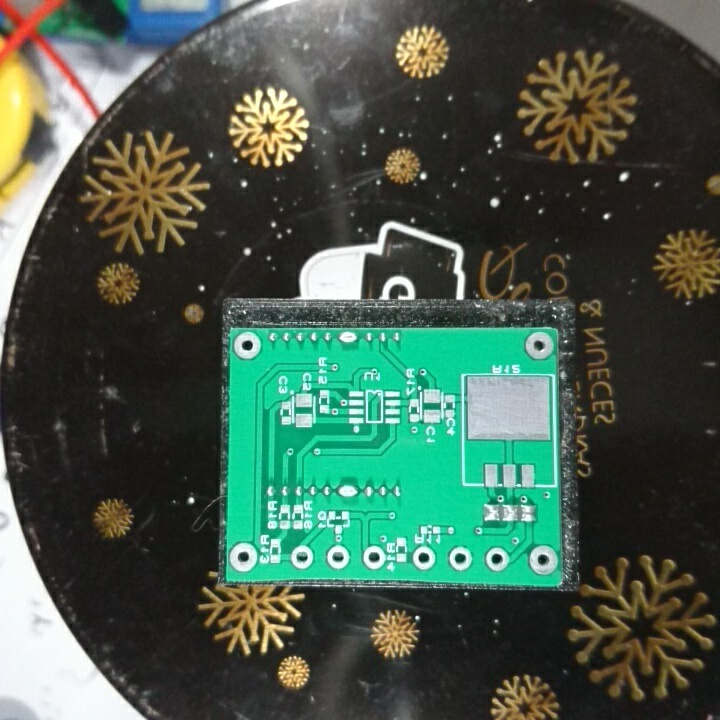F: (227, 538, 259, 575), (231, 329, 263, 365), (527, 543, 559, 577), (522, 329, 554, 363), (446, 543, 475, 575), (410, 544, 440, 573), (324, 543, 353, 572), (290, 543, 317, 572), (361, 543, 387, 572), (484, 545, 510, 572)
P: (336, 481, 362, 500), (336, 329, 359, 348)
